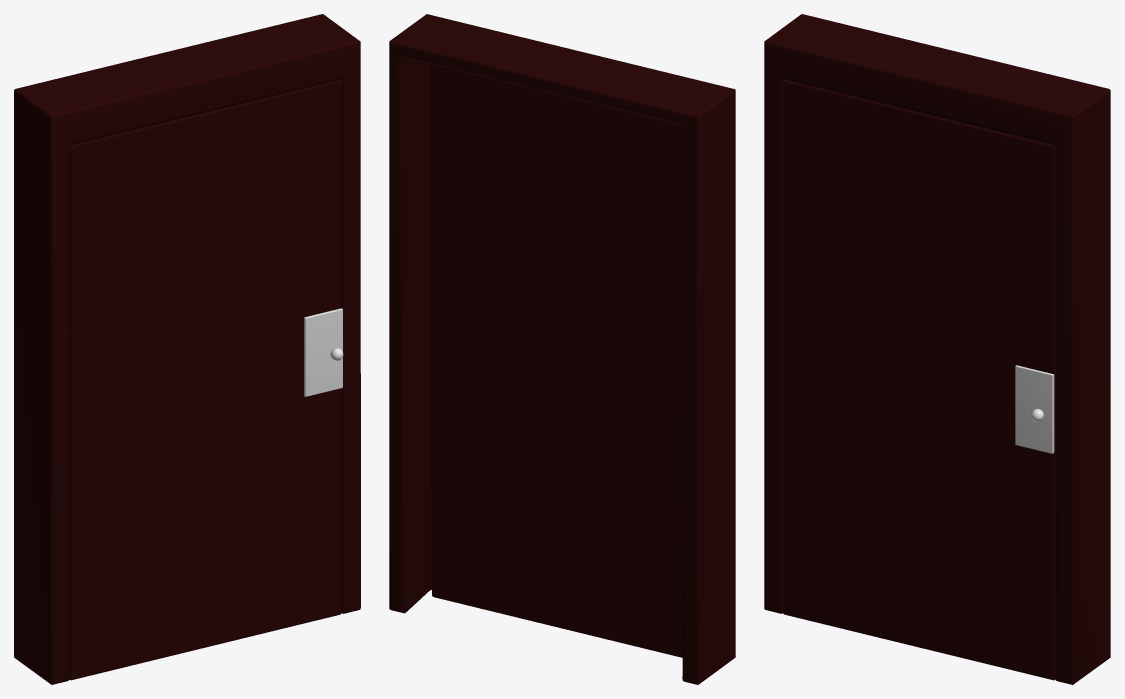
File: door.gltf
3 renders of one model, left to right at view 1: azimuth 30°, elevation 25°; view 2: azimuth 150°, elevation 25°; view 3: azimuth 330°, elevation 25°, orthographic.
Visible parts, largest first — view 1: Cube.001, Cube, Plane; view 2: Cube.001, Cube; view 3: Cube.001, Cube, Plane.
Part boxes in pixels (x1,y1,x2,y2): Cube.001: (69, 80, 341, 680); Cube: (14, 14, 360, 684); Plane: (304, 308, 342, 396); Cube.001: (432, 63, 687, 657); Cube: (389, 14, 735, 684); Cube.001: (783, 80, 1055, 680); Cube: (764, 14, 1110, 684); Plane: (1015, 365, 1054, 453).
Bounding box in the file's own units: 1.56 × 2.74 × 0.4093.
